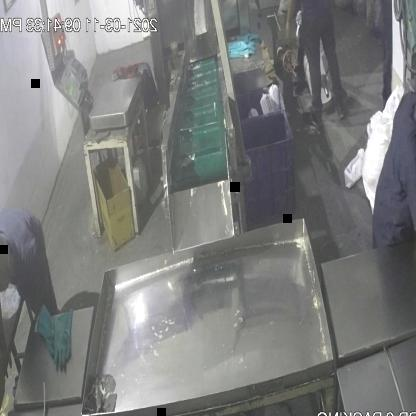no_glove: (0, 277, 15, 385)
